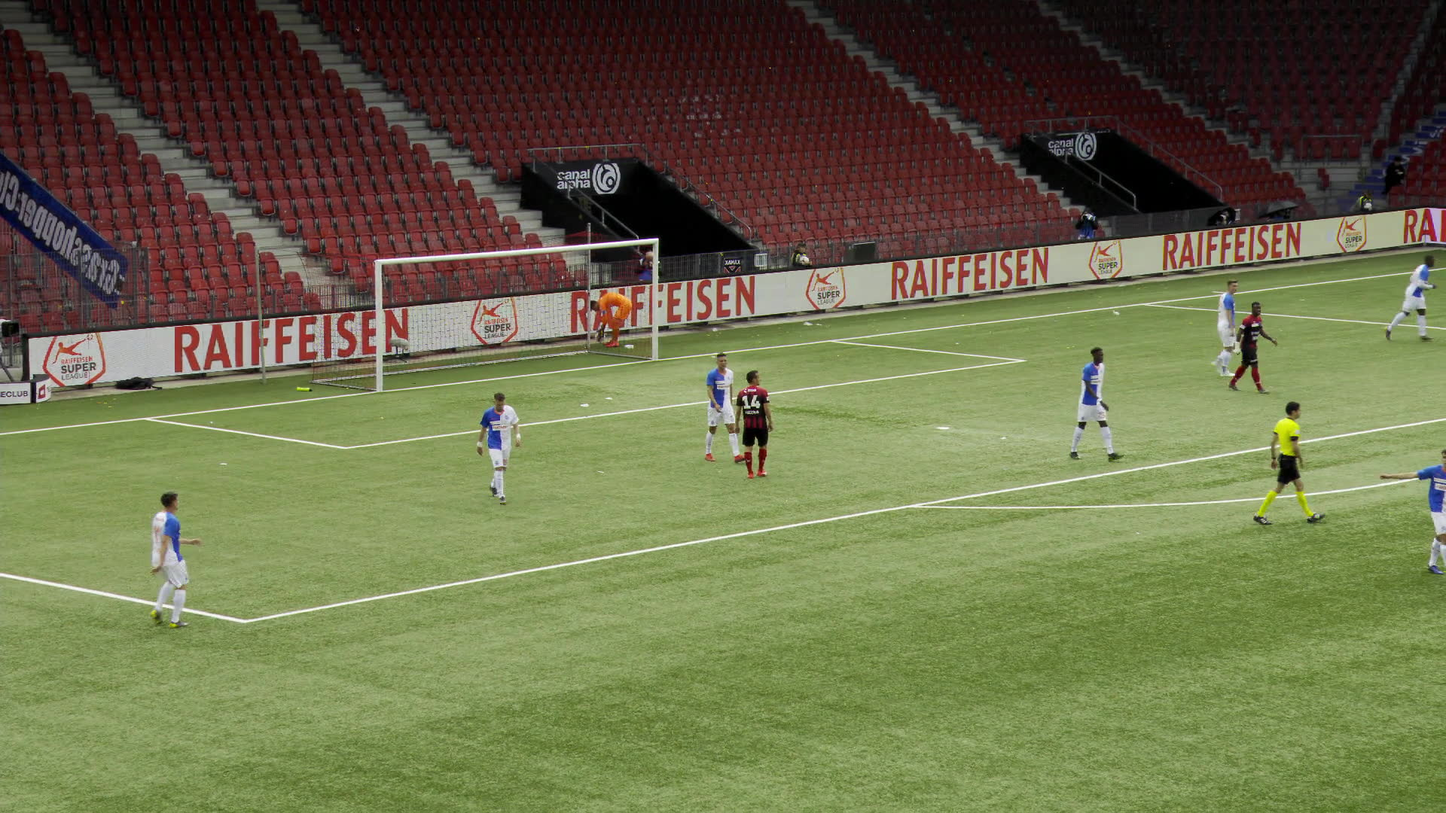ball: (595, 333, 605, 341)
player: (1379, 444, 1445, 573), (146, 492, 200, 629), (1069, 346, 1123, 461), (475, 388, 520, 501), (1383, 254, 1437, 343), (1228, 300, 1277, 394), (705, 351, 746, 461), (733, 369, 773, 479), (1211, 281, 1238, 379), (589, 291, 632, 346)
referee: (1250, 401, 1325, 528)
